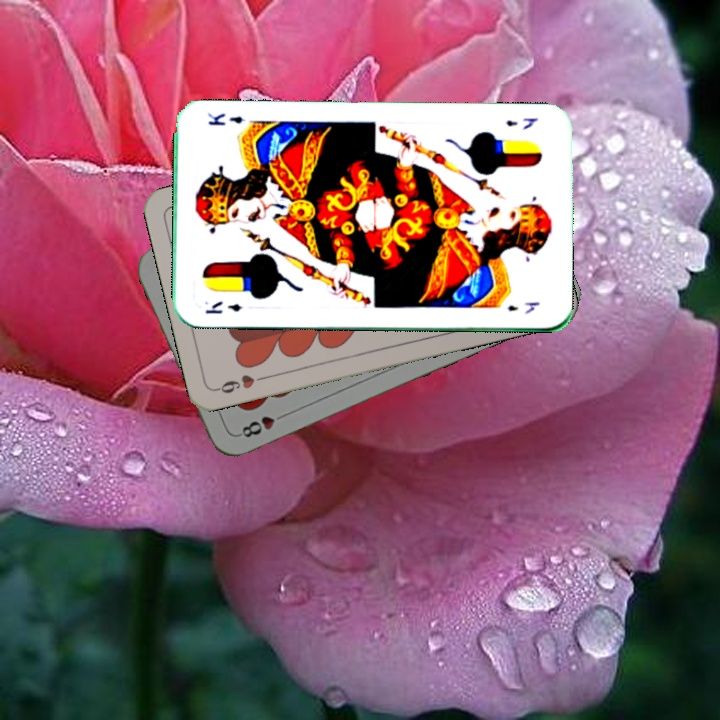EK: (201, 297, 244, 316), (502, 114, 541, 132)
H8: (235, 408, 290, 441)
H9: (212, 370, 271, 396)
